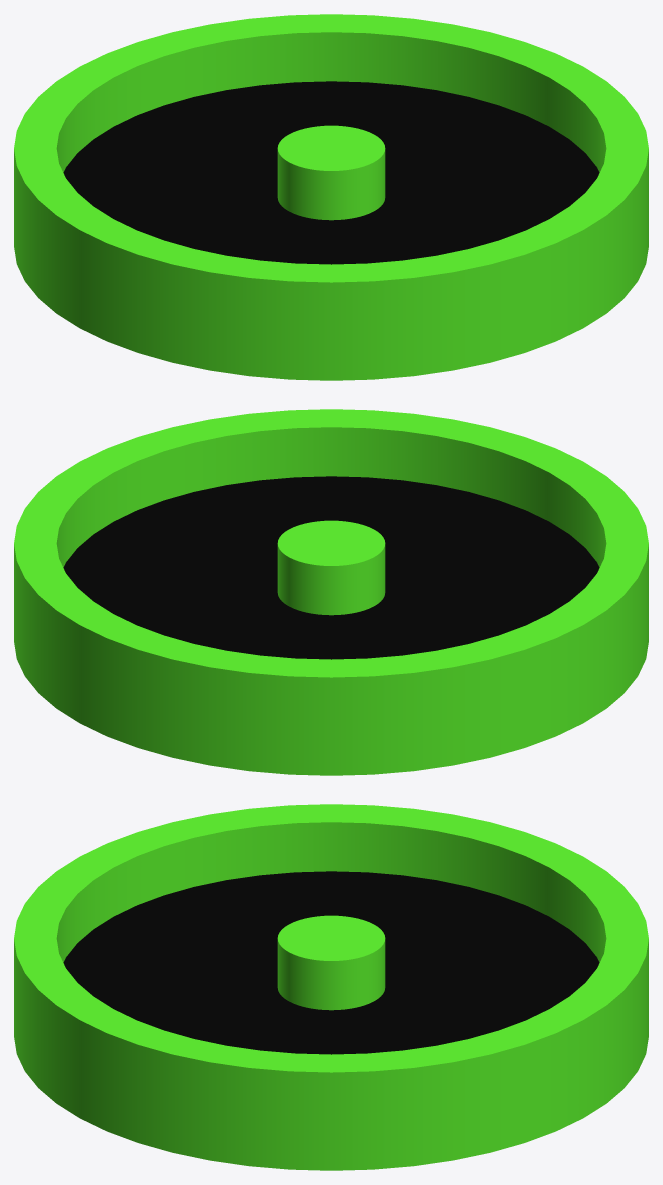
File: Performance-Good.FBX
The picture shows the model from 3 angles, top to bottom: view 1: azimuth 30°, elevation 25°; view 2: azimuth 150°, elevation 25°; view 3: azimuth 270°, elevation 25°; orthographic projection.
Visible parts, largest first — view 1: Good-Perf_LOD0; view 2: Good-Perf_LOD0; view 3: Good-Perf_LOD0.
Boxes of the visible parts, box(x1,y1,x2,y2) form: Good-Perf_LOD0: box(14, 14, 648, 380); Good-Perf_LOD0: box(14, 409, 648, 775); Good-Perf_LOD0: box(14, 804, 648, 1170).
Size of what is drawn, in the model's own units: 0.575 by 0.0982 by 0.575.
